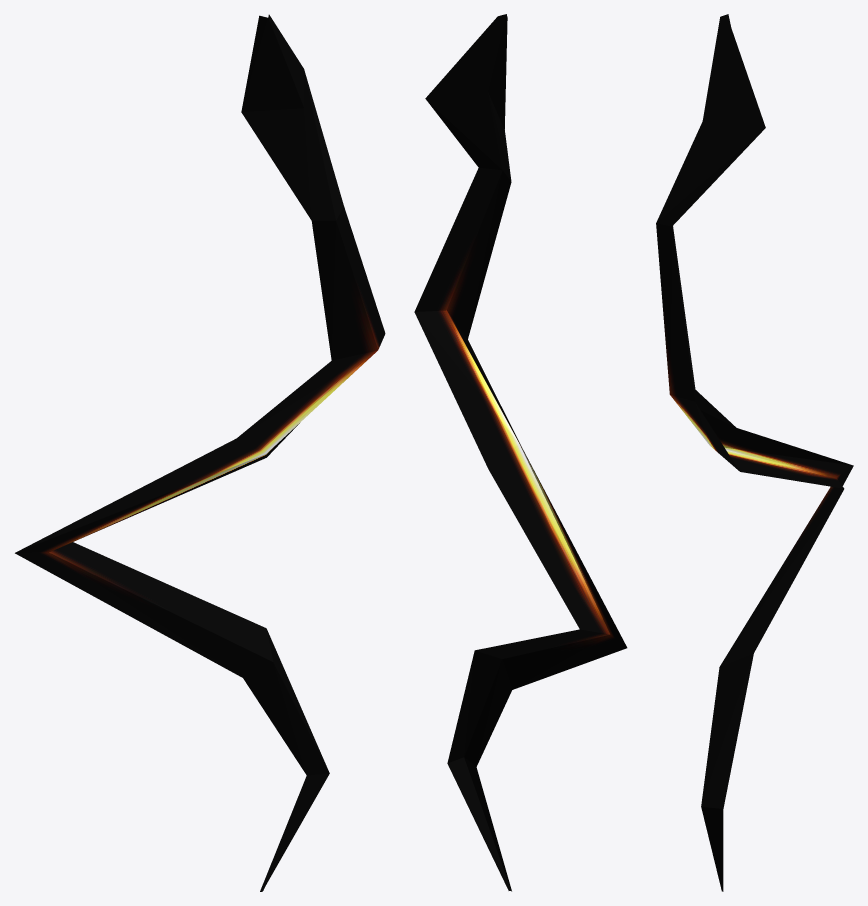
The model's file is 0362_lei2.glb.
The picture shows the model from 3 angles, left to right: view 1: azimuth 30°, elevation 25°; view 2: azimuth 150°, elevation 25°; view 3: azimuth 270°, elevation 25°; orthographic projection.
Size of the model in its own units: 0.769 by 2.2 by 0.4497.
Materials: 1 (1 with a texture image).
